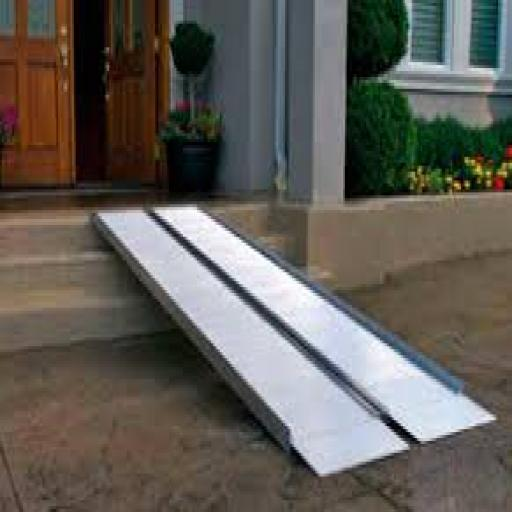ramp: (95, 209, 498, 481)
stairs: (0, 223, 99, 345)
